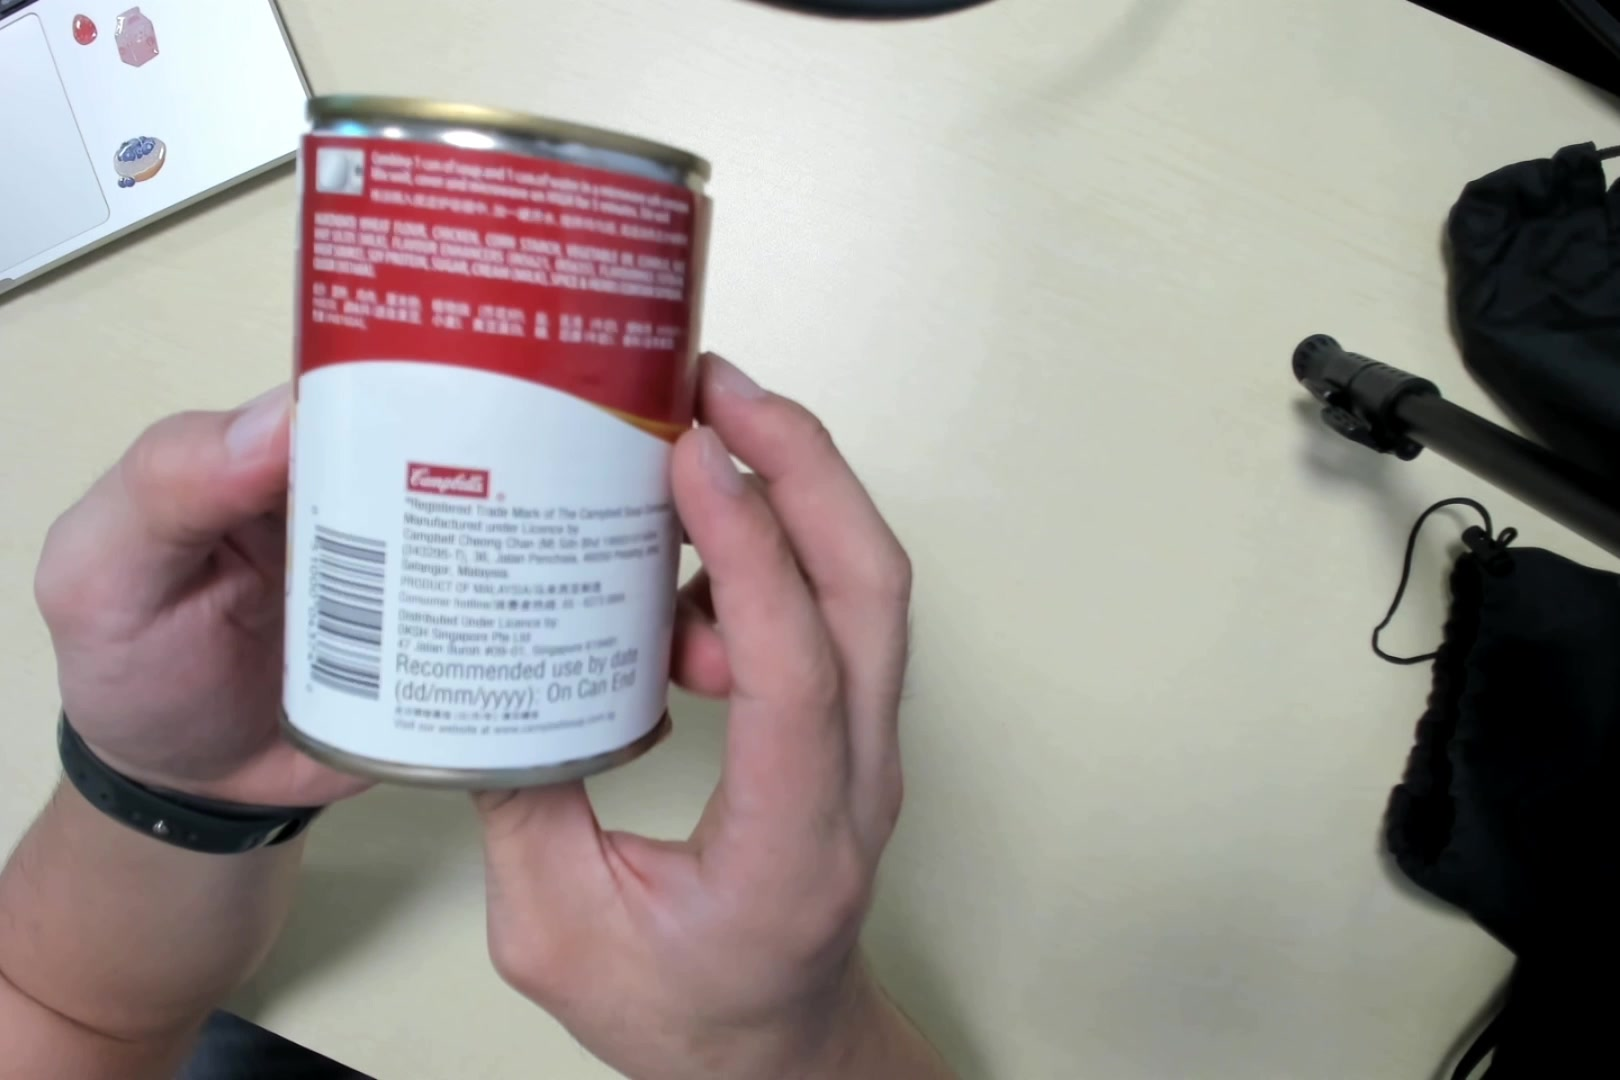CannedSoup_300-399g_Halal_NonHealthy: (280, 98, 702, 785)
